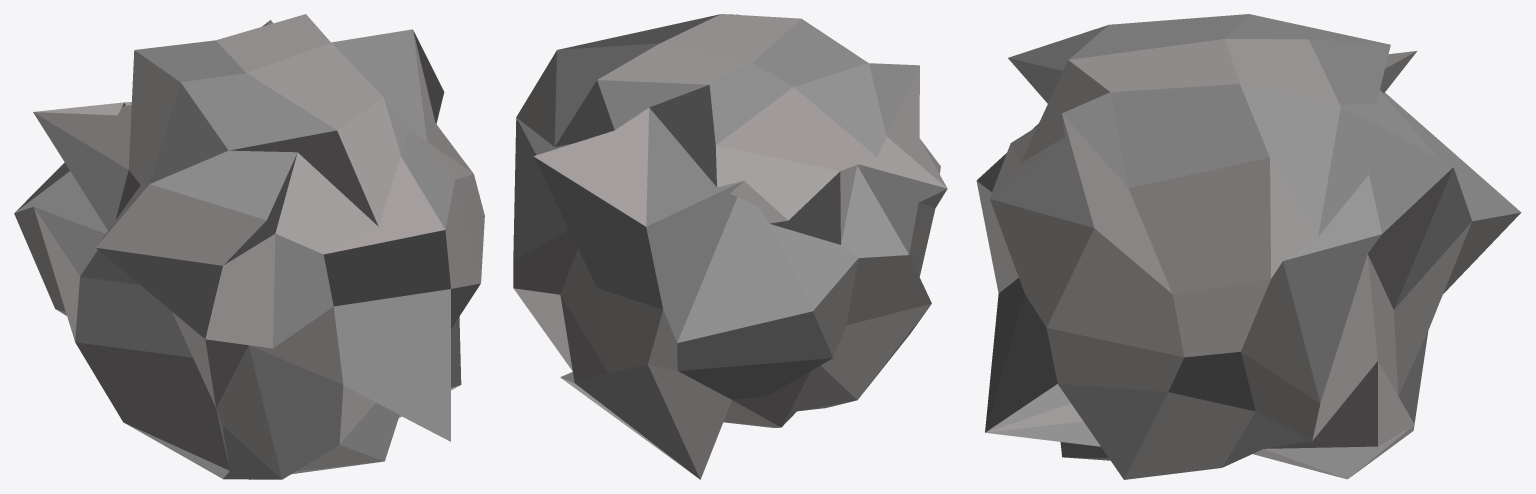
The model's file is Paper ball.fbx.
3 views of the same model, side by side, from view 1: azimuth 30°, elevation 25°; view 2: azimuth 150°, elevation 25°; view 3: azimuth 270°, elevation 25° (orthographic). The views are drawn at different scales.
Parts seen in each view (by area): view 1: Paper ball; view 2: Paper ball; view 3: Paper ball.
Part boxes in pixels (x1,y1,x2,y2): Paper ball: [14, 14, 484, 479]; Paper ball: [513, 14, 947, 479]; Paper ball: [976, 14, 1521, 479].
Bounding box in the file's own units: 29.95 × 28.12 × 31.77.
